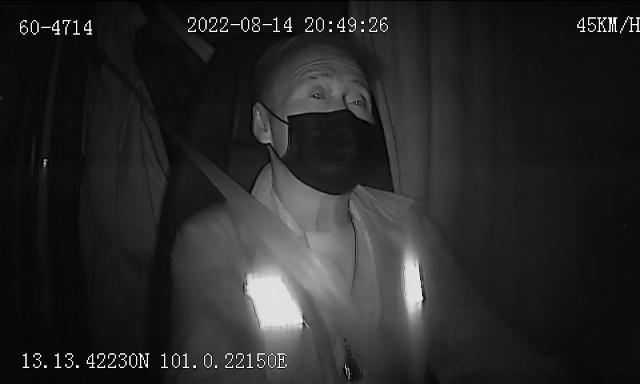Seatbelt: (190, 148, 354, 384)
